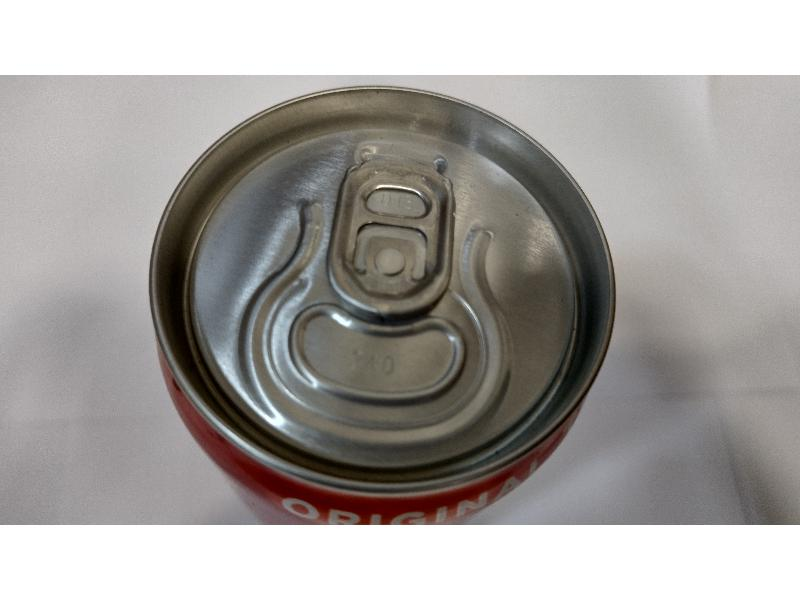can: (147, 80, 621, 528)
